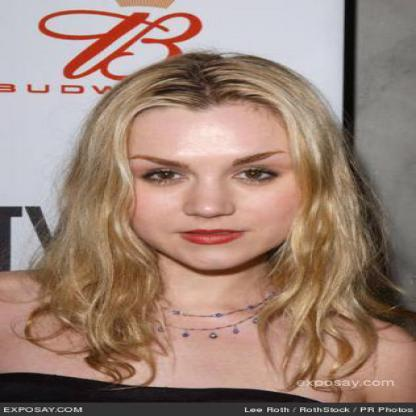long-hair: (25, 271, 384, 336)
